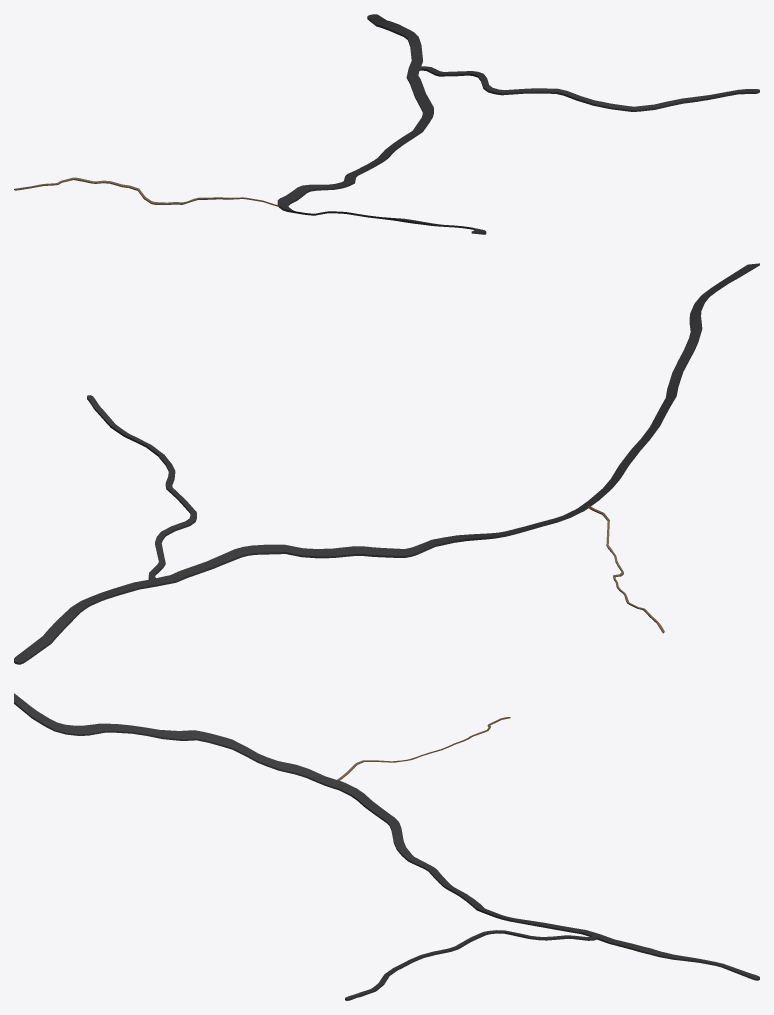
3 renders of one model, top to bottom at view 1: azimuth 30°, elevation 25°; view 2: azimuth 150°, elevation 25°; view 3: azimuth 270°, elevation 25°, orthographic. The views are drawn at different scales.
Bounding box in the file's own units: 418 × 101 × 459.
